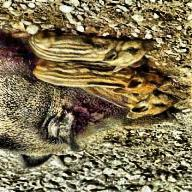boar: (0, 63, 184, 161), (41, 22, 154, 68), (39, 58, 178, 91), (84, 88, 185, 120)
